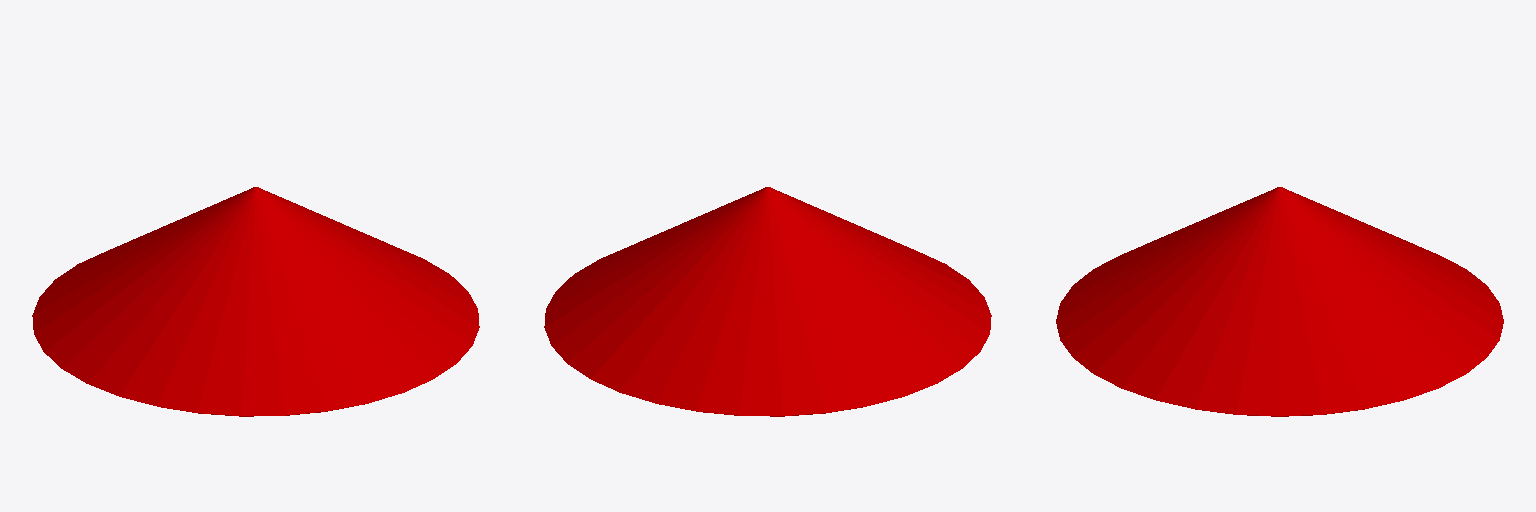
The model's file is tactir.obj.
3 views of the same model, side by side, from view 1: azimuth 30°, elevation 25°; view 2: azimuth 150°, elevation 25°; view 3: azimuth 270°, elevation 25° (orthographic).
Parts seen in each view (by area): view 1: Cone; view 2: Cone; view 3: Cone.
Part boxes in pixels (x1,y1,x2,y2): Cone: (32, 187, 479, 416); Cone: (544, 187, 991, 416); Cone: (1056, 187, 1503, 416).
Size of the model in its own units: 1.94 by 0.6659 by 1.94.